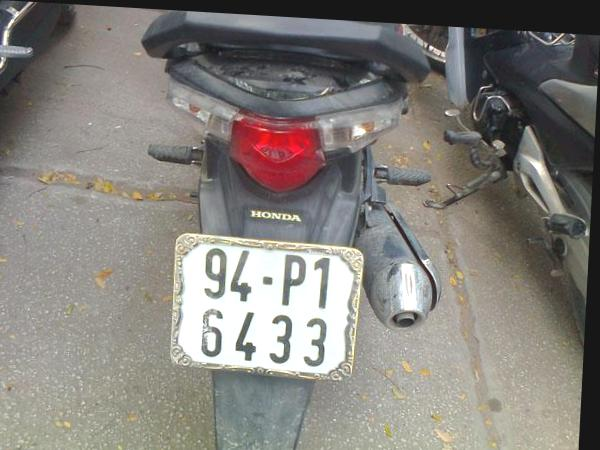License_Plate: (176, 233, 357, 378)
